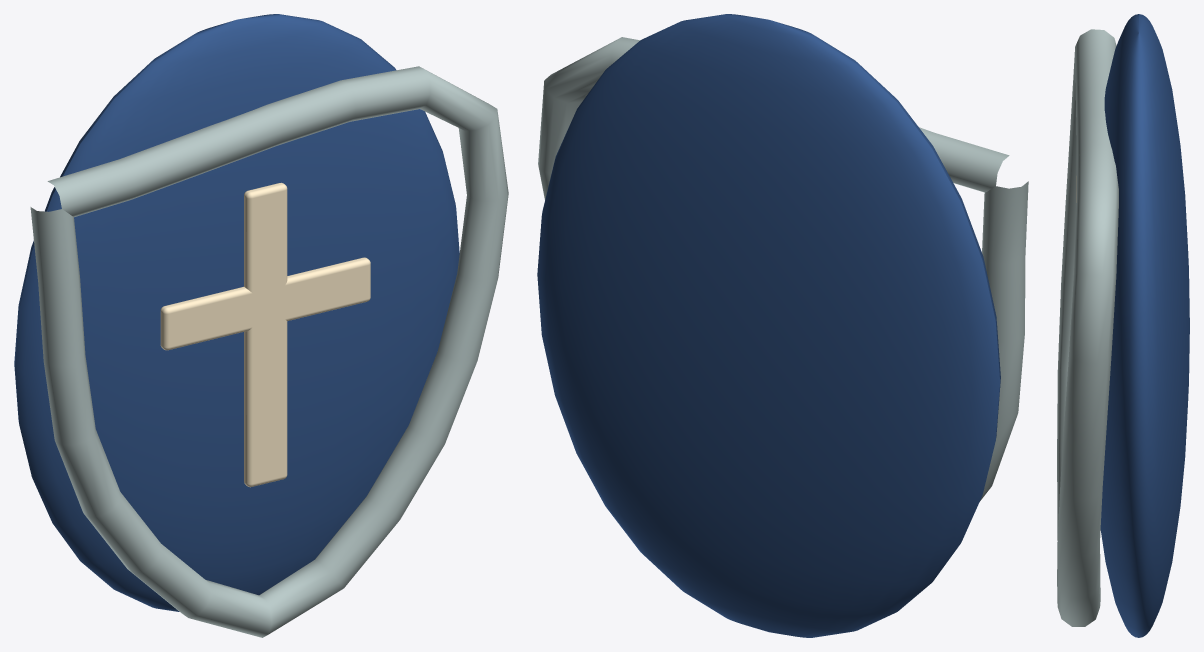
File: bonus-shield.glb
The picture shows the model from 3 angles, left to right: view 1: azimuth 30°, elevation 25°; view 2: azimuth 150°, elevation 25°; view 3: azimuth 270°, elevation 25°; orthographic projection. The views are drawn at different scales.
Parts seen in each view (by area): view 1: blue, steel, ivory; view 2: blue, steel; view 3: blue, steel.
Boxes of the visible parts, box(x1,y1,x2,y2) form: blue: box(14, 14, 459, 611); steel: box(30, 66, 508, 637); ivory: box(160, 182, 370, 487); blue: box(537, 14, 1000, 637); steel: box(538, 37, 1028, 501); blue: box(1100, 14, 1189, 637); steel: box(1057, 29, 1118, 626).
Bounding box in the file's own units: 0.6323 × 0.7633 × 0.1563.
